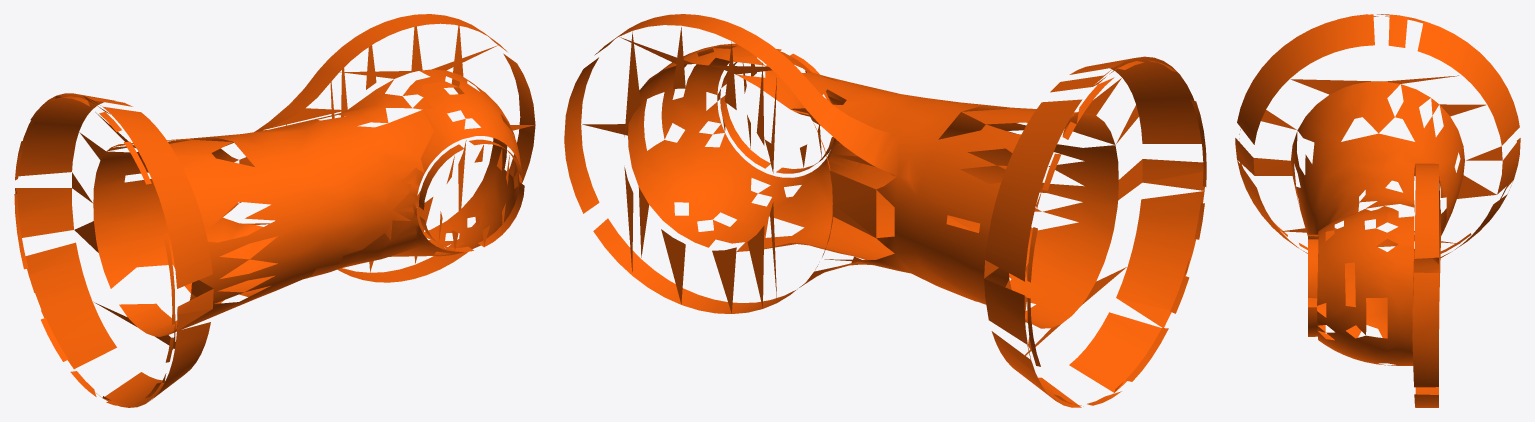
The model's file is KR210R2700prime_KRxxxultra.4_2_Rep.dae.
3 renders of one model, left to right at view 1: azimuth 30°, elevation 25°; view 2: azimuth 150°, elevation 25°; view 3: azimuth 270°, elevation 25°, orthographic. The views are drawn at different scales.
Visible parts, largest first — view 1: KR210R2700prime_KRxxxultra.4_2; view 2: KR210R2700prime_KRxxxultra.4_2; view 3: KR210R2700prime_KRxxxultra.4_2.
Boxes of the visible parts, x1,y1,x2,y2 form: KR210R2700prime_KRxxxultra.4_2: (14,14,535,407); KR210R2700prime_KRxxxultra.4_2: (564,14,1206,407); KR210R2700prime_KRxxxultra.4_2: (1235,14,1520,407).
Size of the model in its own units: 341 by 208 by 206.
